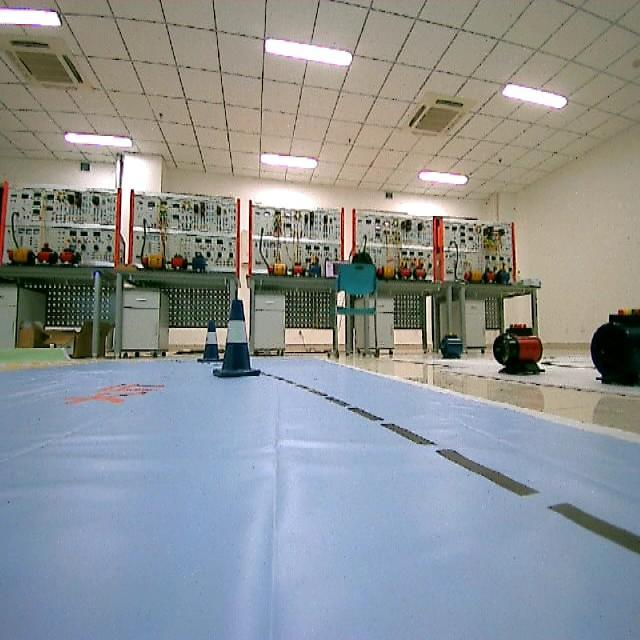obstacle: (214, 295, 265, 386), (206, 311, 224, 367)
